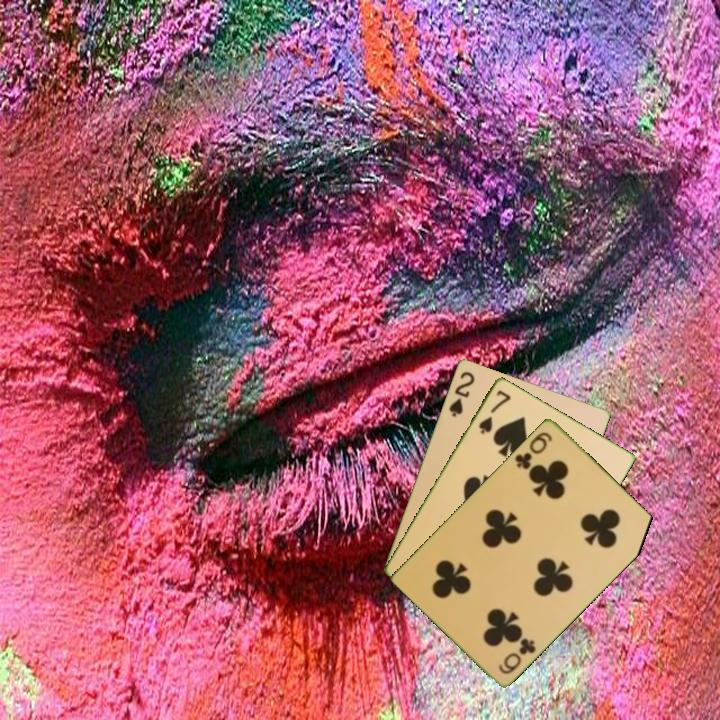2s: (445, 368, 477, 419)
6c: (511, 428, 555, 472), (495, 634, 539, 677)
7s: (475, 386, 513, 437)
